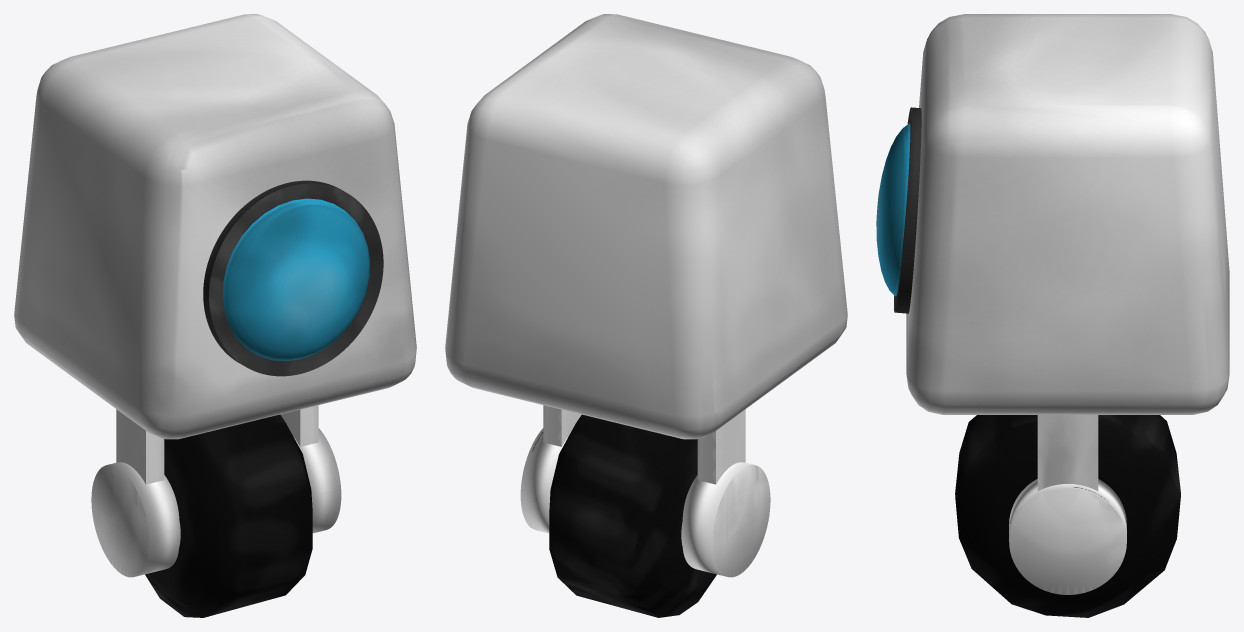
Rendered from roller3.dae.
3 renders of one model, left to right at view 1: azimuth 30°, elevation 25°; view 2: azimuth 150°, elevation 25°; view 3: azimuth 270°, elevation 25°, orthographic. The views are drawn at different scales.
Parts seen in each view (by area): view 1: Cube.001, Mball.001, Sphere, Cylinder, Cylinder.001, Cylinder.002, Cube.002, Cube.003; view 2: Cube.001, Mball.001, Cylinder.001, Cylinder.002, Cube.002, Cube.003; view 3: Cube.001, Mball.001, Cylinder.002, Cube.003, Sphere, Cylinder.
Boxes of the visible parts, x1,y1,x2,y2 form: Cube.001: [14, 14, 416, 439]; Mball.001: [145, 414, 312, 617]; Sphere: [222, 198, 369, 361]; Cylinder: [203, 180, 383, 376]; Cylinder.001: [91, 462, 180, 577]; Cylinder.002: [294, 428, 341, 533]; Cube.002: [116, 409, 164, 484]; Cube.003: [280, 405, 318, 446]; Cube.001: [445, 14, 847, 439]; Mball.001: [549, 414, 716, 617]; Cylinder.001: [681, 462, 770, 577]; Cylinder.002: [520, 428, 567, 533]; Cube.002: [697, 409, 745, 484]; Cube.003: [543, 405, 581, 446]; Cube.001: [906, 14, 1229, 414]; Mball.001: [955, 415, 1180, 617]; Cylinder.002: [1009, 479, 1126, 594]; Cube.003: [1037, 415, 1098, 491]; Sphere: [876, 123, 910, 296]; Cylinder: [894, 107, 921, 313].
Size of the model in its own units: 1.9 by 2.07 by 3.47.
5 materials, 5 textured.
